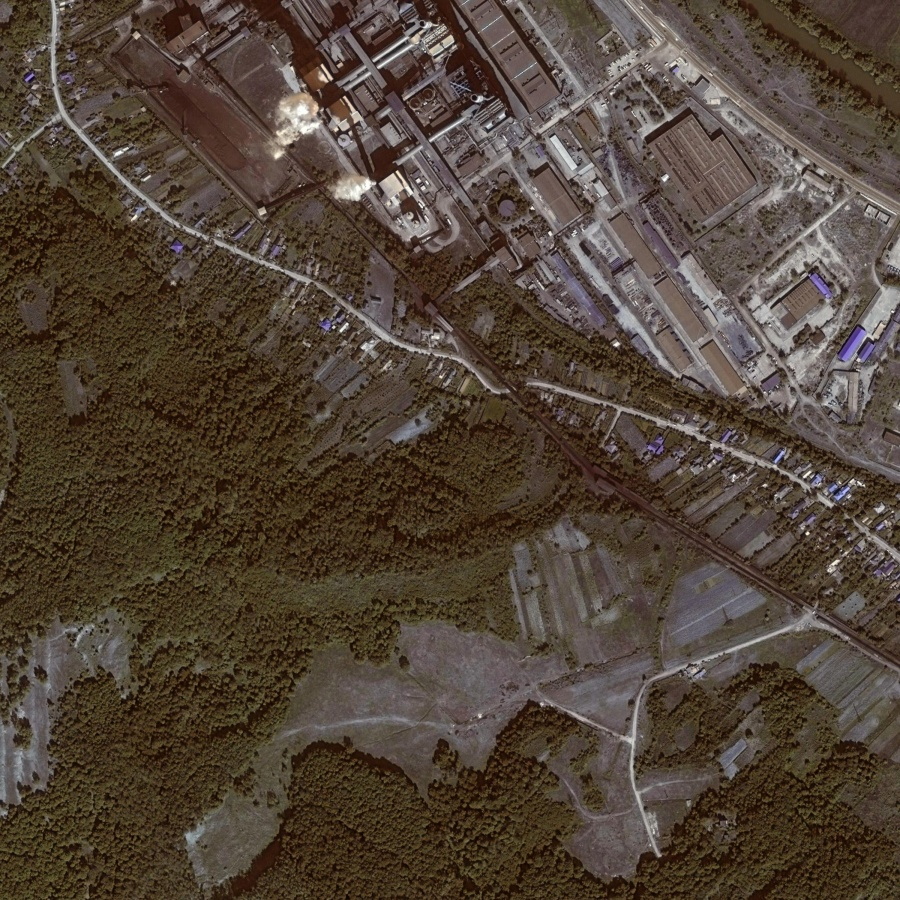PowerPlant: (159, 1, 374, 230)
